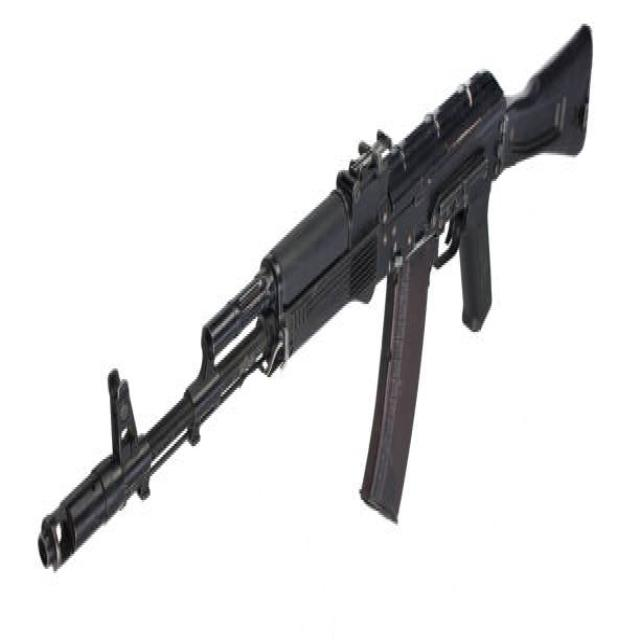rifle: (35, 21, 606, 589)
